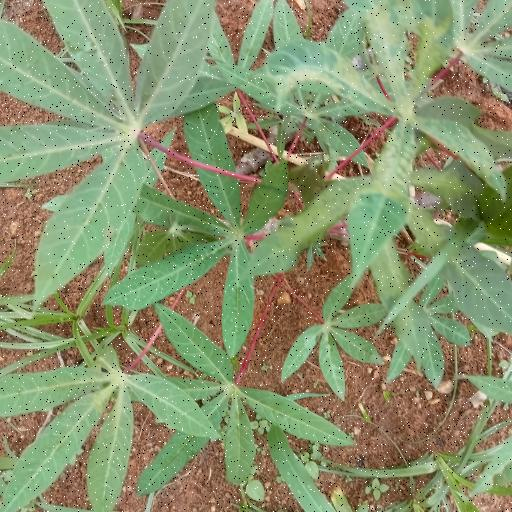Cassava_Mosaic: (261, 0, 512, 277), (0, 0, 215, 302), (0, 340, 206, 512)
